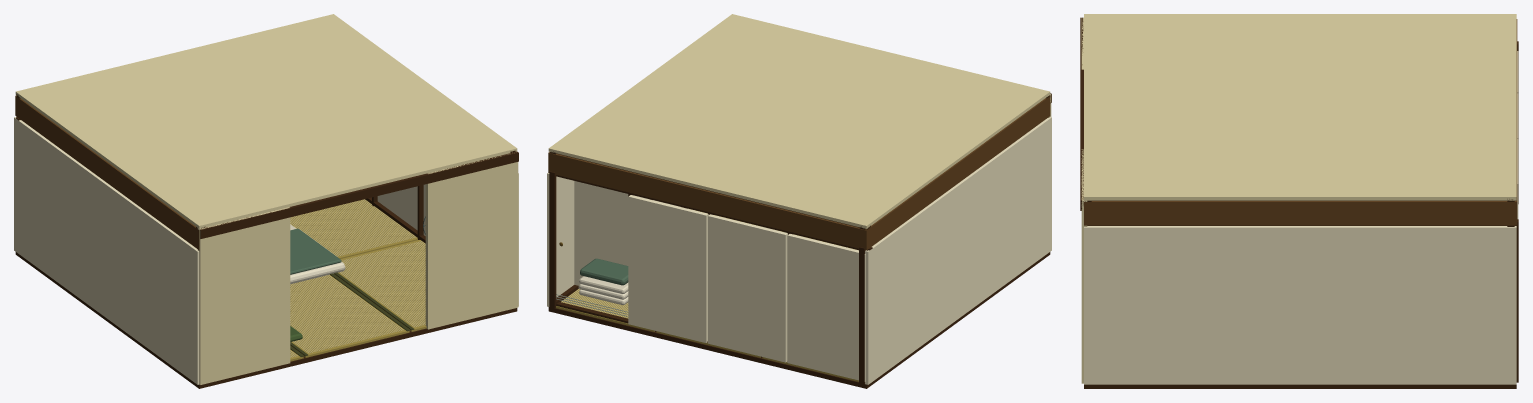
The model's file is tatami-home.glb.
3 renders of one model, left to right at view 1: azimuth 30°, elevation 25°; view 2: azimuth 150°, elevation 25°; view 3: azimuth 270°, elevation 25°, orthographic. The views are drawn at different scales.
Parts seen in each view (by area): view 1: PreviewCeiling, Room_paper, Room_straw, PreviewFront.001, PreviewFront, Room_cream, Room_cedar, Room_wood, night quilt, Room_edge, night mattress; view 2: PreviewCeiling, Room_paper, Room_wood, Room_cedar, cupboard paper, Room_straw, folded quilt, Room_cream, folded mattress.002; view 3: PreviewCeiling, Room_paper, Room_wood, Room_cedar, PreviewFront.001.
Boxes of the visible parts, x1,y1,x2,y2 form: PreviewCeiling: (15, 14, 517, 228); Room_paper: (14, 117, 518, 384); Room_straw: (290, 199, 426, 361); PreviewFront.001: (425, 154, 518, 329); PreviewFront: (197, 207, 290, 384); Room_cream: (290, 199, 425, 357); Room_cedar: (15, 94, 518, 388); Room_wood: (15, 95, 199, 249); night quilt: (290, 228, 341, 274); Room_edge: (290, 272, 414, 356); night mattress: (290, 224, 345, 284); PreviewCeiling: (548, 14, 1050, 228); Room_paper: (547, 117, 1051, 384); Room_wood: (548, 96, 1050, 250); Room_cedar: (548, 93, 1051, 388); cupboard paper: (574, 181, 647, 289); Room_straw: (556, 209, 858, 381); folded quilt: (580, 258, 628, 285); Room_cream: (561, 209, 852, 318); folded mattress.002: (579, 276, 628, 293); PreviewCeiling: (1084, 14, 1516, 200); Room_paper: (1084, 51, 1518, 384); Room_wood: (1084, 19, 1517, 225); Room_cedar: (1080, 17, 1518, 388); PreviewFront.001: (1081, 149, 1087, 383).
Size of the model in its own units: 6.06 by 2.94 by 6.08.
